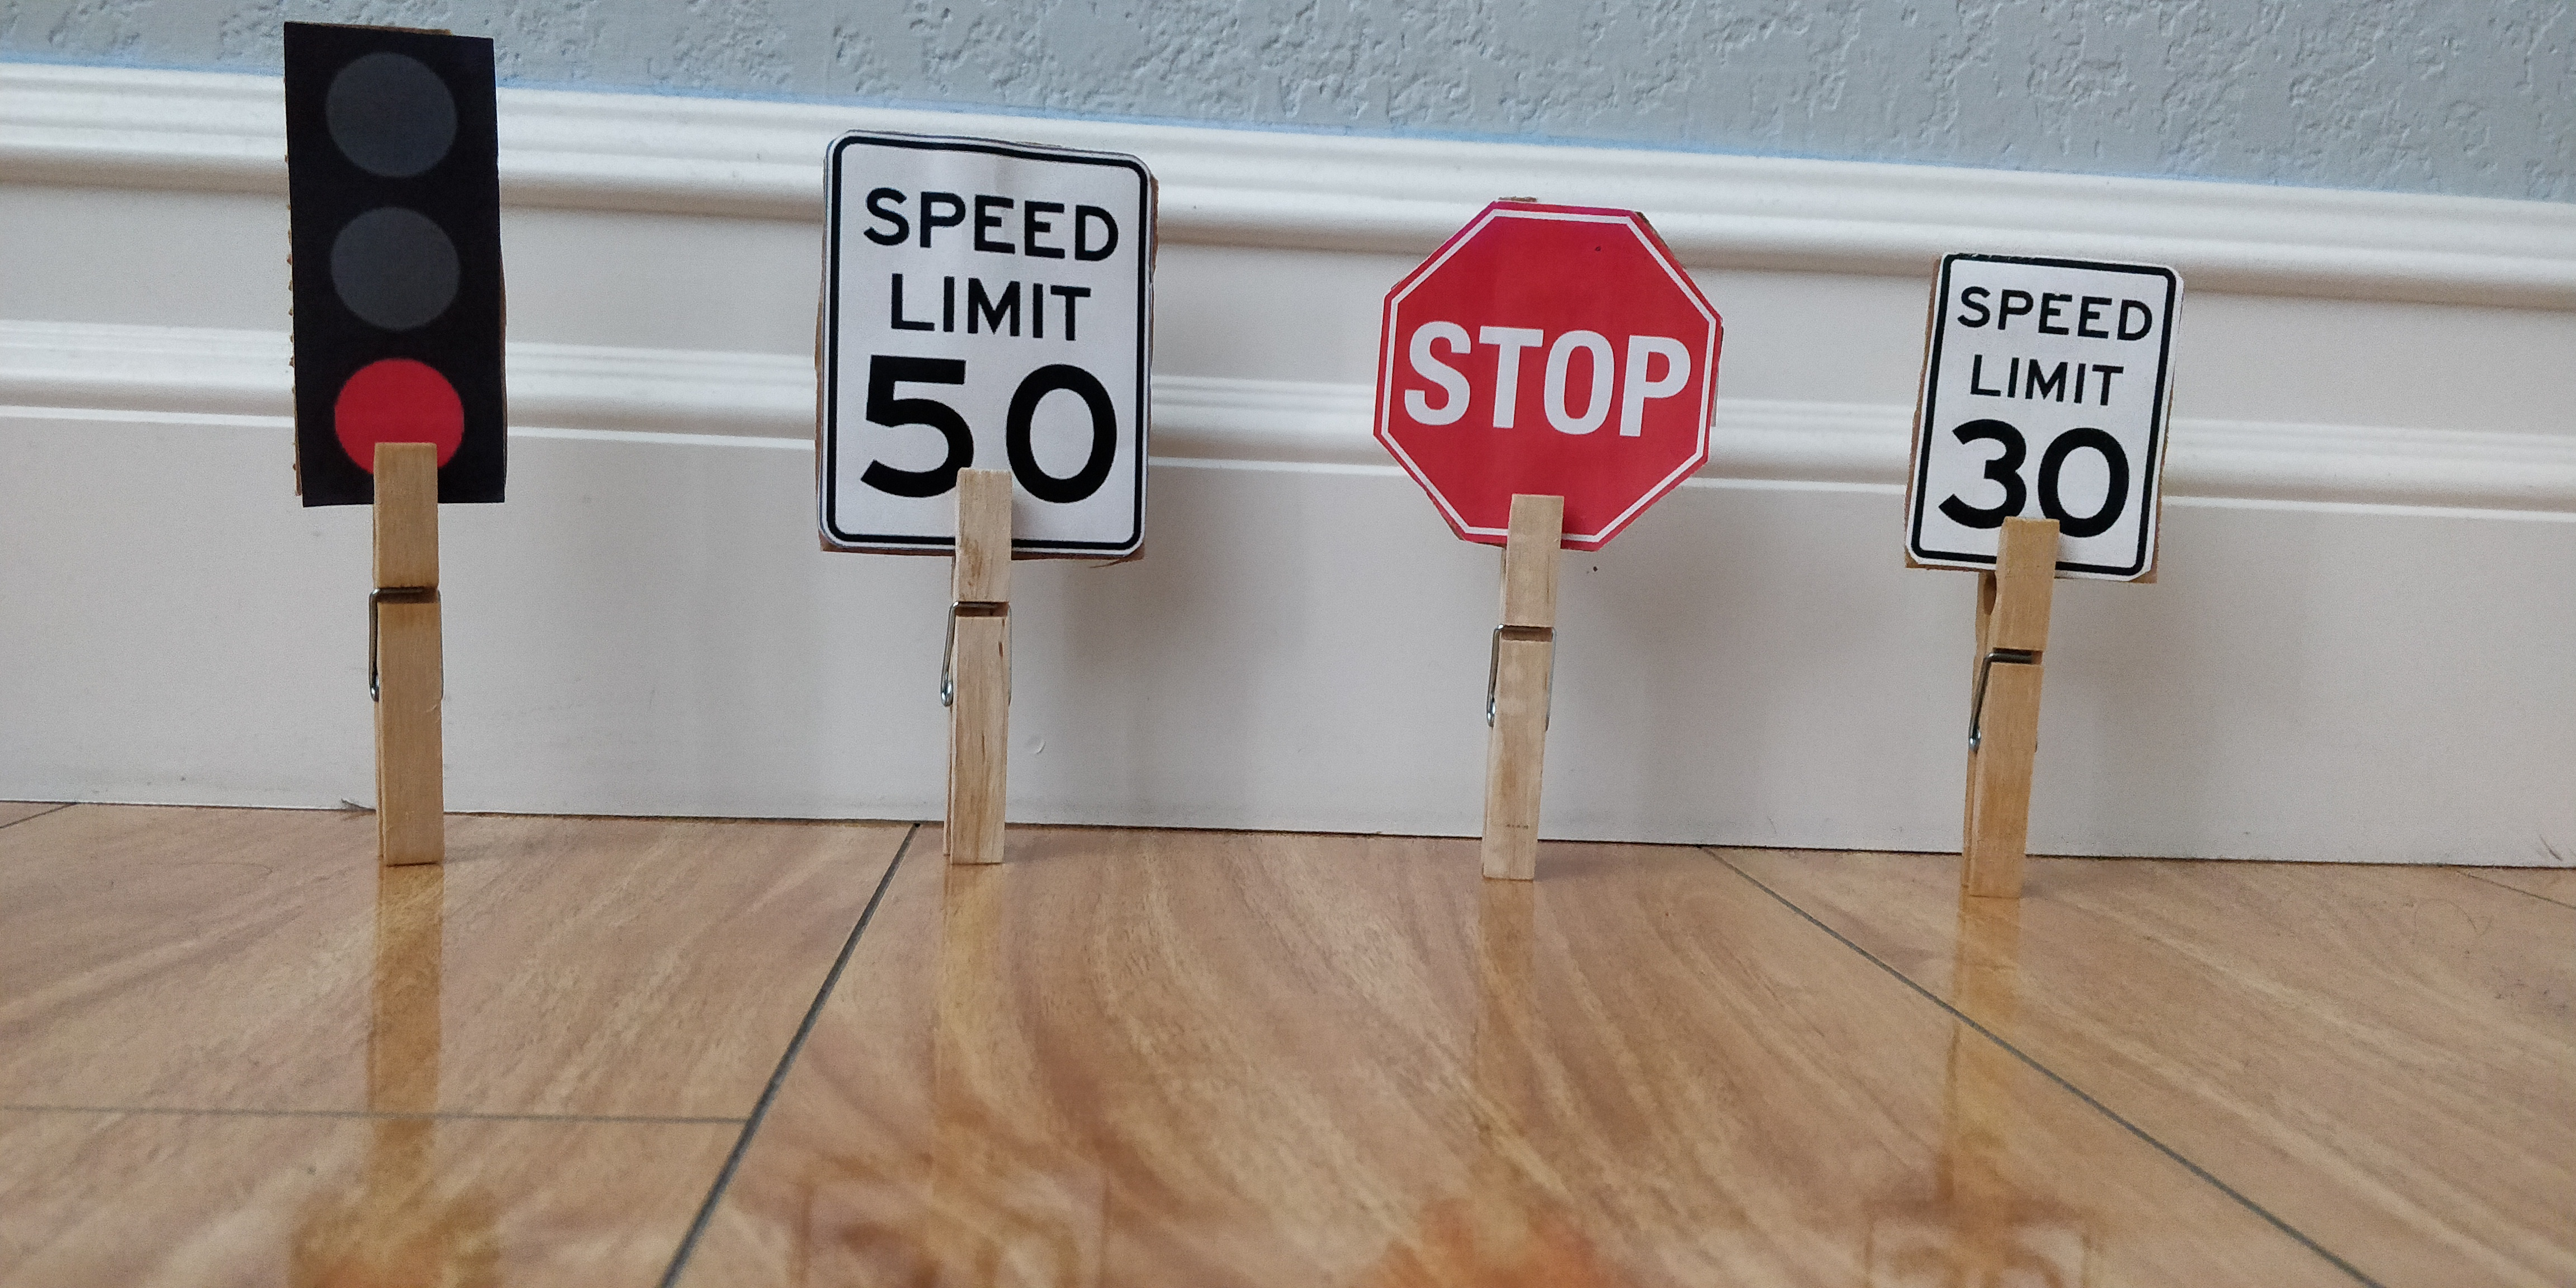Speed Limit 30: (1906, 251, 2182, 588)
Speed Limit 50: (828, 125, 1160, 562)
Stop Sign: (1377, 199, 1723, 545)
red light: (288, 28, 511, 501)
